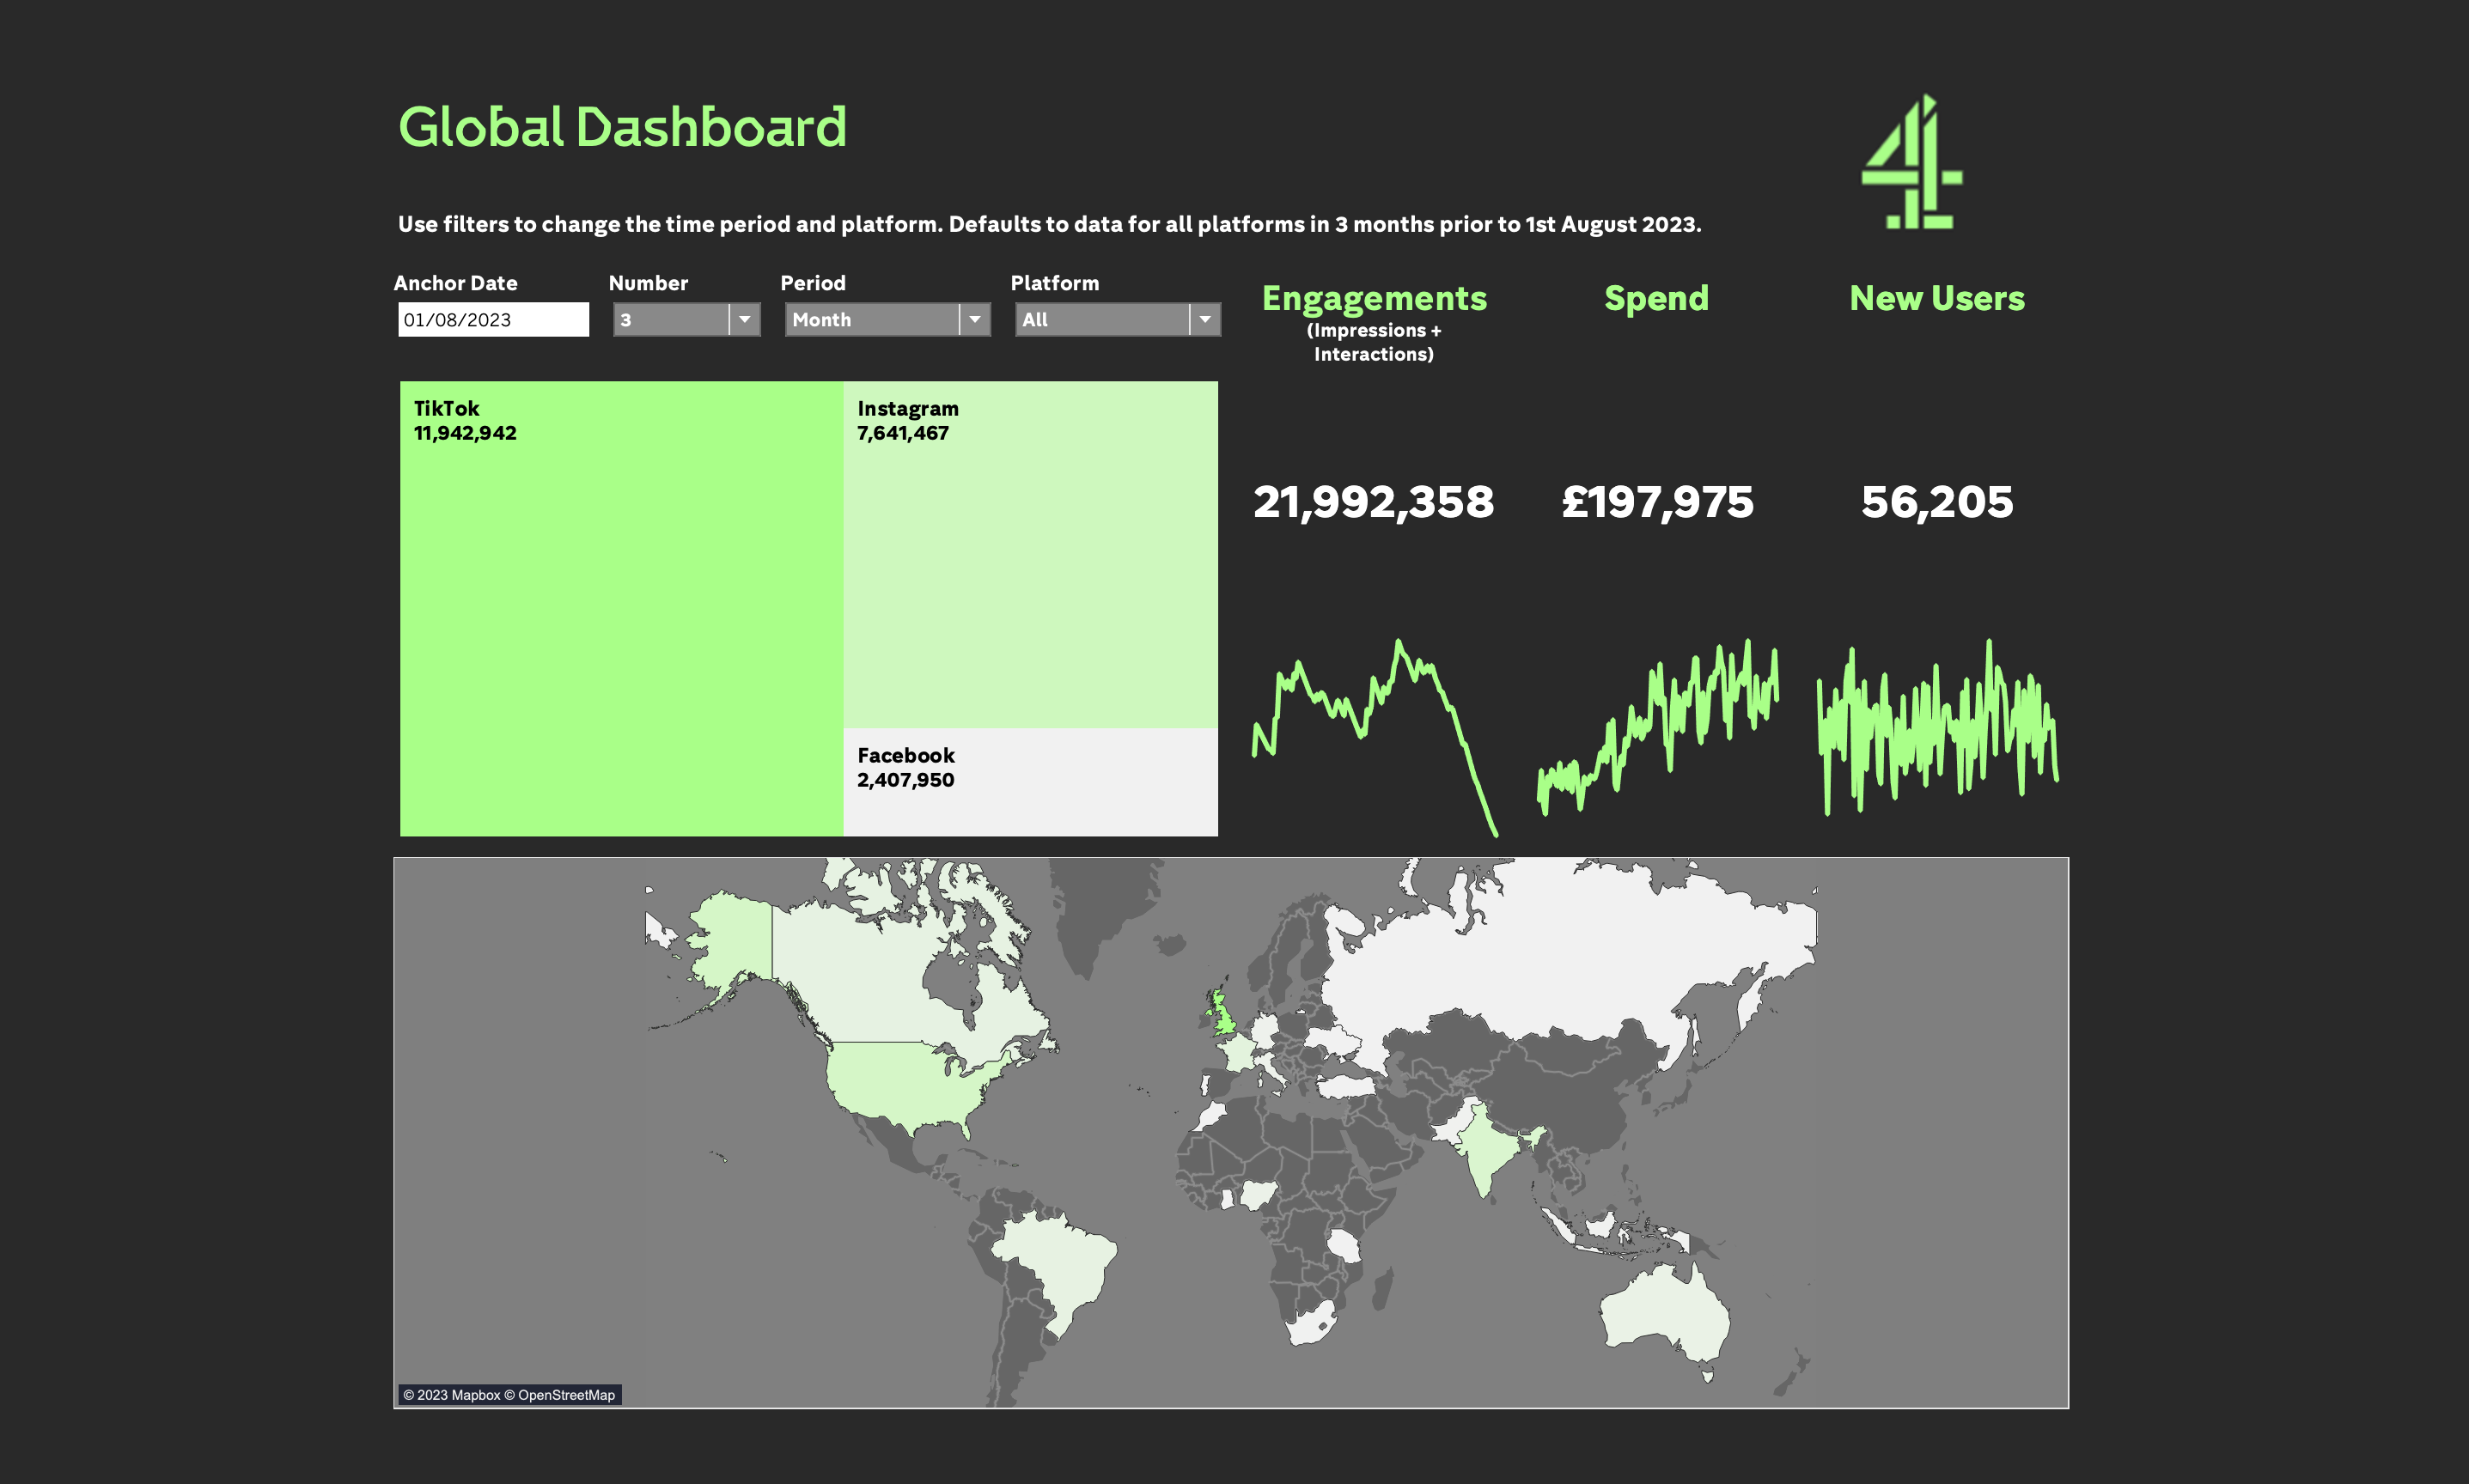

Layout of this report page (visuals, bound fields, positions):
{"tool":"tableau","page":{"name":"Dashboard 1","canvas":[1000,800],"ordinal":0},"visuals":[{"type":"title","box":[8,8,821,66]},{"type":"image","param":"/Users/patrick/Documents/Data Materials/Extra work/Social Media Dashboard/Screen","box":[829,8,163,112]},{"type":"text","box":[8,74,821,46]},{"type":"parameter","param":"[Parameters].[Parameter 2]","box":[8,120,125,60.8]},{"type":"parameter","param":"[Parameters].[Parameter 3]","box":[133,120,100,60.8]},{"type":"parameter","param":"[Parameters].[Parameter 4]","box":[233,120,133.5,60.8]},{"type":"parameter","param":"[Parameters].[Platform Parameter]","box":[366.5,120,133.5,60.8]},{"type":"worksheet","title":"Engagements","mark":"Automatic","box":[500,120,166,208]},{"type":"worksheet","title":"Spend","mark":"Automatic","box":[666,120,163,208]},{"type":"worksheet","title":"New Users","mark":"Automatic","box":[829,120,163,208]},{"type":"worksheet","title":"Treemap","mark":"Automatic","box":[8,181,492,281]},{"type":"worksheet","title":"Sparkline (engagements)","mark":"Line","rows":["Calculation_1504061602633113600"],"cols":["date"],"box":[500,328,166,134]},{"type":"worksheet","title":"Sparkline (spend)","mark":"Line","rows":["spend"],"cols":["date"],"box":[666,328,163,134]},{"type":"worksheet","title":"Sparkline (new users)","mark":"Automatic","rows":["new_users"],"cols":["date"],"box":[829,328,163,134]},{"type":"worksheet","title":"Map","mark":"Multipolygon","box":[8,462,984,330]}]}

Visuals, with their boxes on the page's 1000x800 design canvas (x1, y1, x2, y2). These are canvas units, not pixel positions in the 2469x1484 screenshot, which may show the page scaled, cropped or inside an application window:
title: box=[8, 8, 829, 74]
image: box=[829, 8, 992, 120]
text: box=[8, 74, 829, 120]
parameter: box=[8, 120, 133, 181]
parameter: box=[133, 120, 233, 181]
parameter: box=[233, 120, 366, 181]
parameter: box=[366, 120, 500, 181]
"Engagements" worksheet: box=[500, 120, 666, 328]
"Spend" worksheet: box=[666, 120, 829, 328]
"New Users" worksheet: box=[829, 120, 992, 328]
"Treemap" worksheet: box=[8, 181, 500, 462]
"Sparkline (engagements)" worksheet (Line marks): box=[500, 328, 666, 462]
"Sparkline (spend)" worksheet (Line marks): box=[666, 328, 829, 462]
"Sparkline (new users)" worksheet: box=[829, 328, 992, 462]
"Map" worksheet (Multipolygon marks): box=[8, 462, 992, 792]
